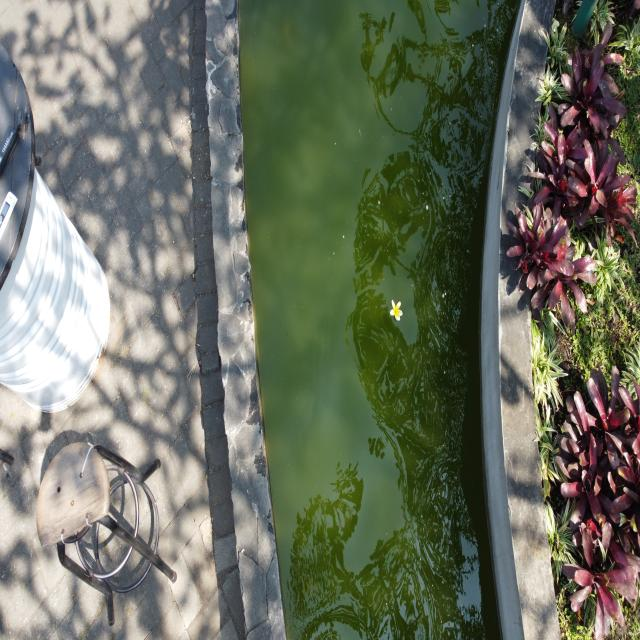Ponds: (207, 2, 562, 640)
